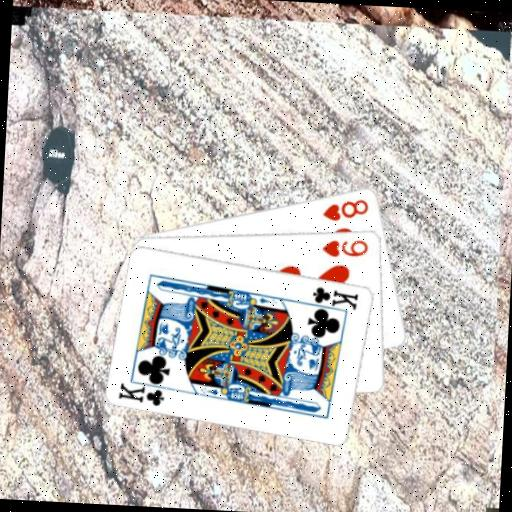8H: (319, 193, 371, 224)
9H: (319, 234, 371, 260)
KC: (116, 375, 175, 408), (304, 283, 361, 315)
